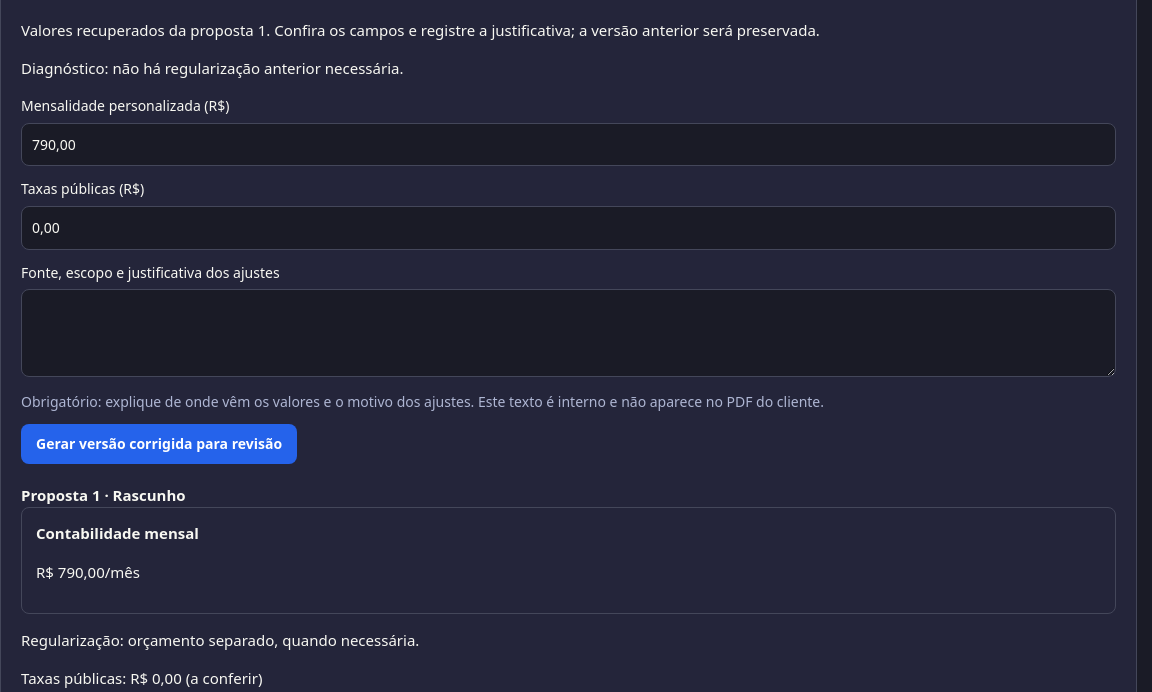
Test: rascunho antigo com justificativa ausente recupera valores e permite corrigir, aprovar e gerar o link
The width and height of the screenshot is (1152, 692).
(page scrolled)
Expected: the field labelled "Mensalidade personalizada (R$)" holds "790,00", x1=21 y1=123 x2=1116 y2=166
Expected: the field labelled "Taxas públicas (R$)" holds "0,00", x1=21 y1=206 x2=1116 y2=250
Type "Honorários conferidos conforme o escopo negociado." into the text box labelled "Fonte, escopo e justificativa dos ajustes" at [568, 333], box x1=21 y1=290 x2=1116 y2=377
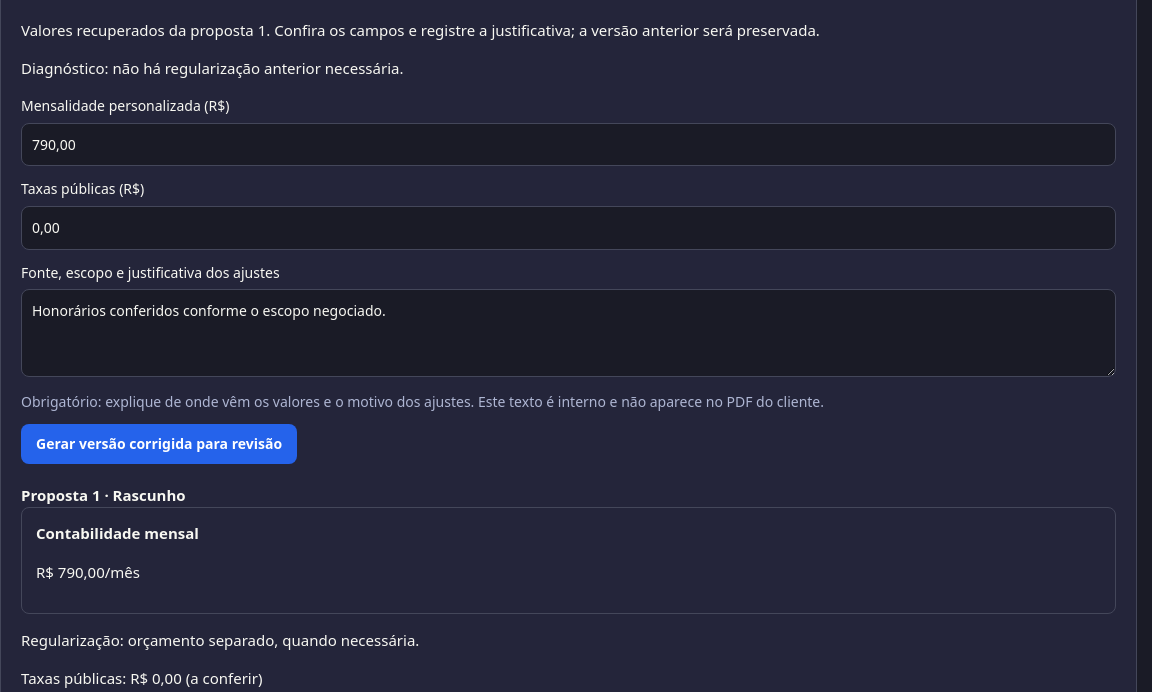
Click the button "Gerar versão corrigida para revisão" at [159, 444], box x1=21 y1=424 x2=297 y2=464
(page scrolled)
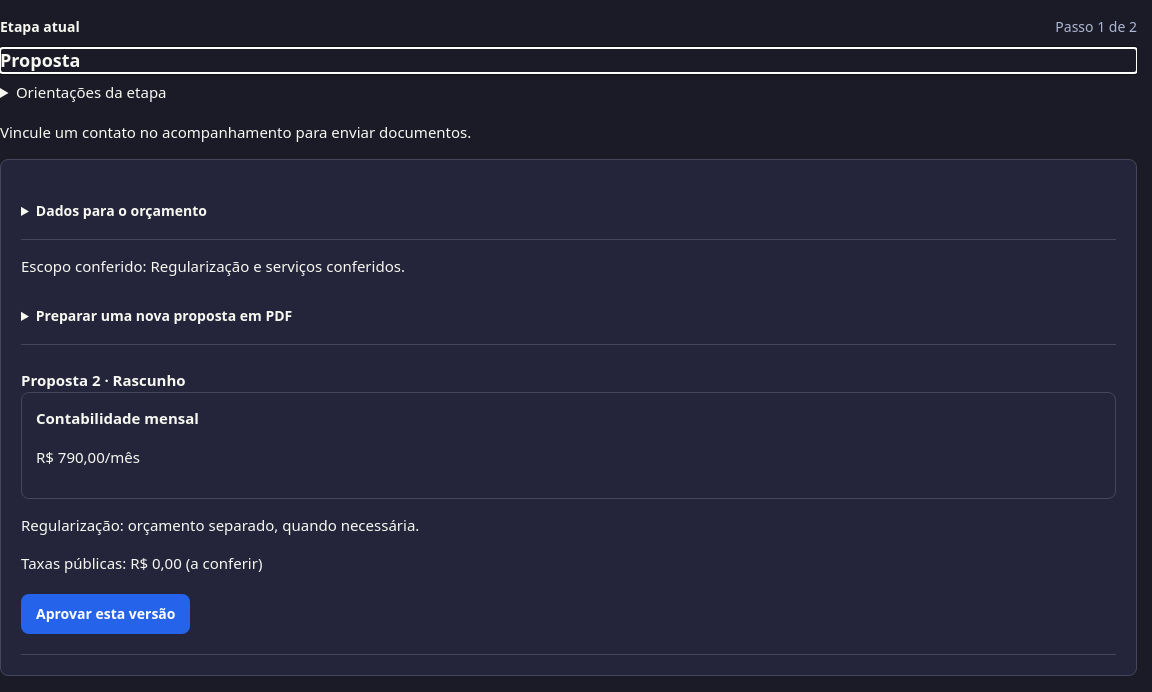
Expected: the text "Proposta 2 · Rascunho" is shown, x1=21 y1=370 x2=186 y2=390
Click the button "Aprovar esta versão" at [106, 614], box x1=21 y1=594 x2=190 y2=634
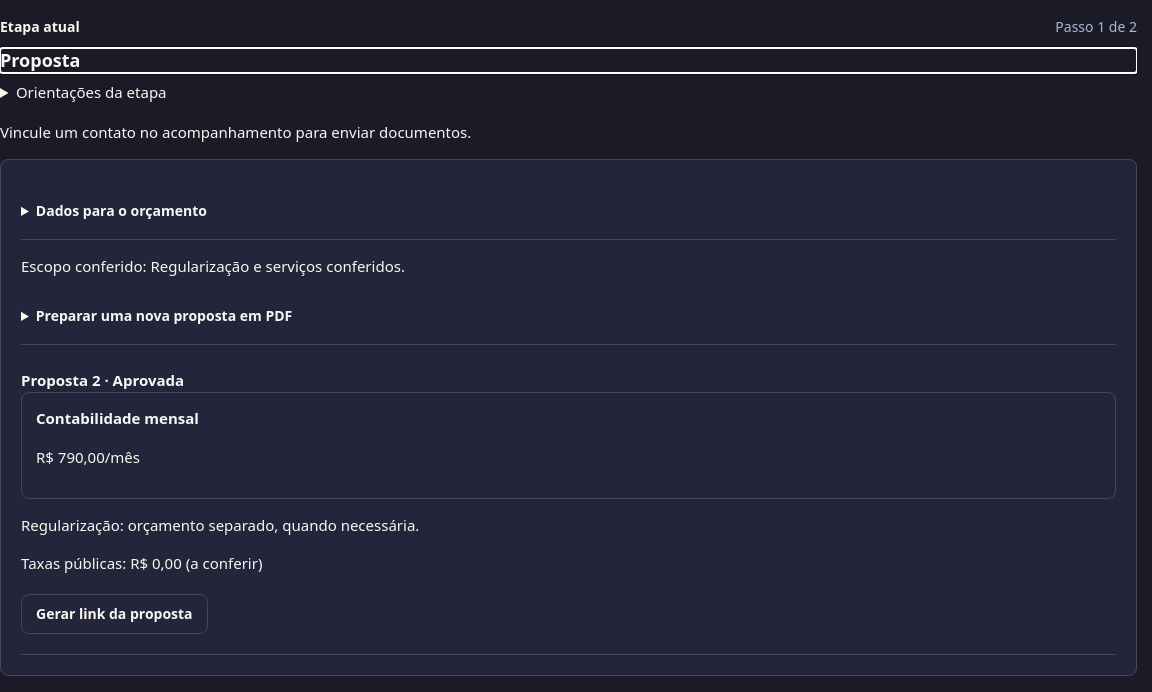
Click the button "Gerar link da proposta" at [114, 614], box x1=21 y1=594 x2=208 y2=634
(page scrolled)
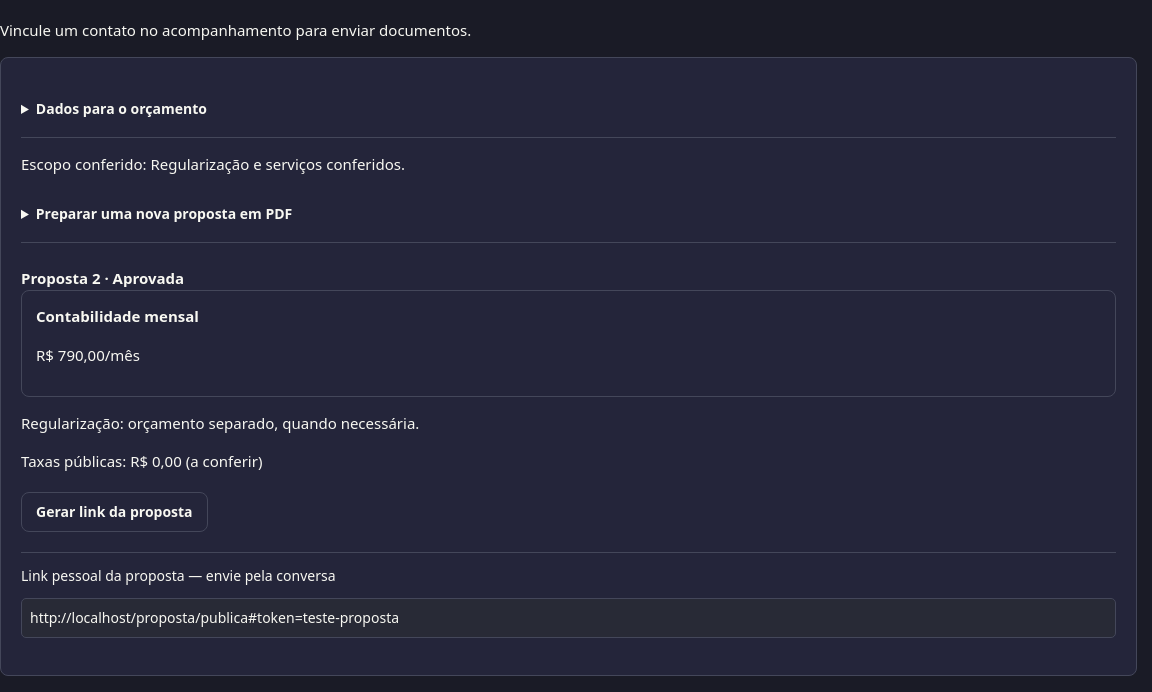
Expected: the field labelled "Link pessoal da proposta — envie pela conversa" holds "http://localhost/proposta/publica#token=teste-proposta", x1=21 y1=598 x2=1116 y2=638
